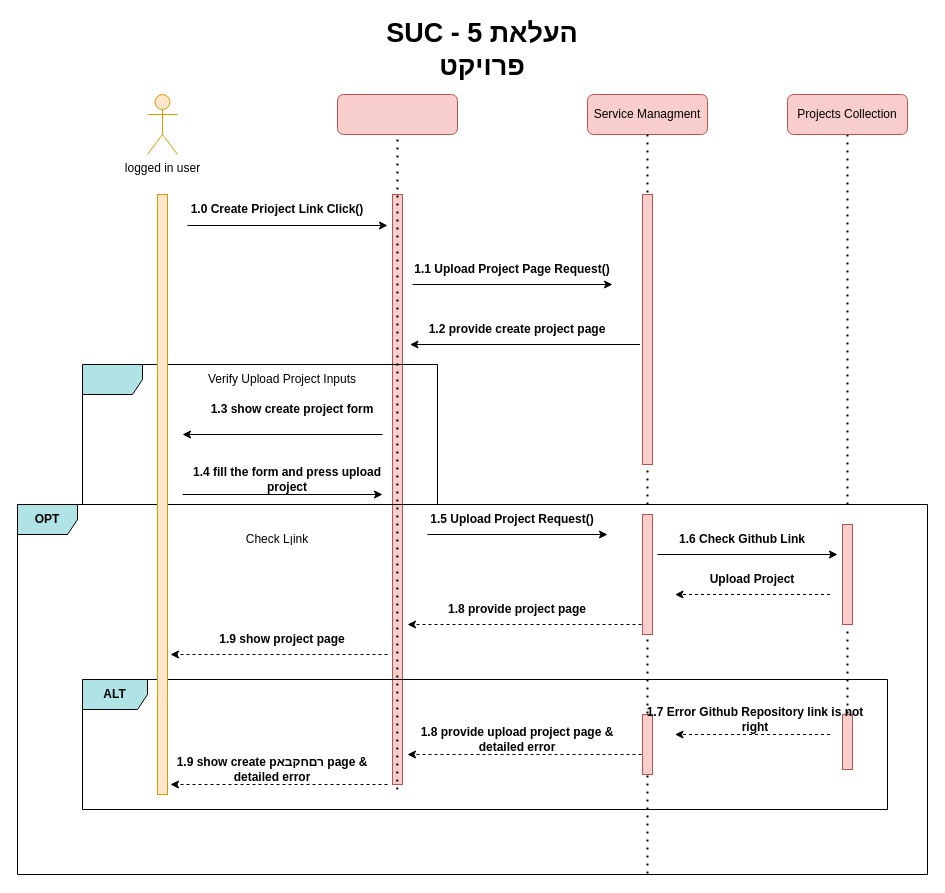
The diagram is 945 pixels wide and 893 high, and some of its shapes have lost their labels. Here are the shapes that lost their labels. From the top down, the centre of each, then its label:
(x=397, y=114): GUI
(x=260, y=434): LOOP
